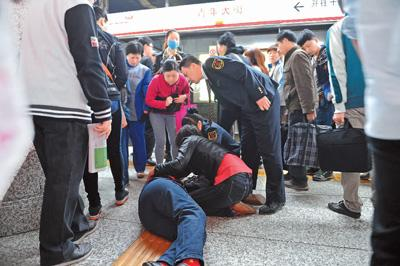10+: (9, 2, 397, 259)
down: (130, 157, 208, 266)
